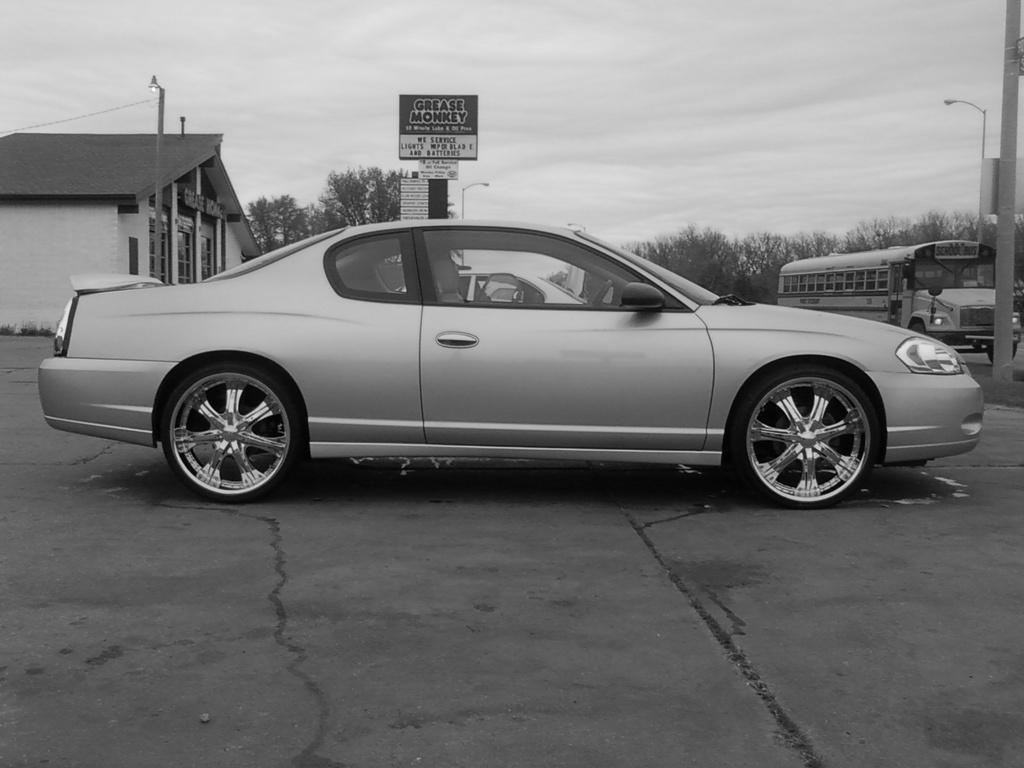car: (26, 206, 1001, 517)
